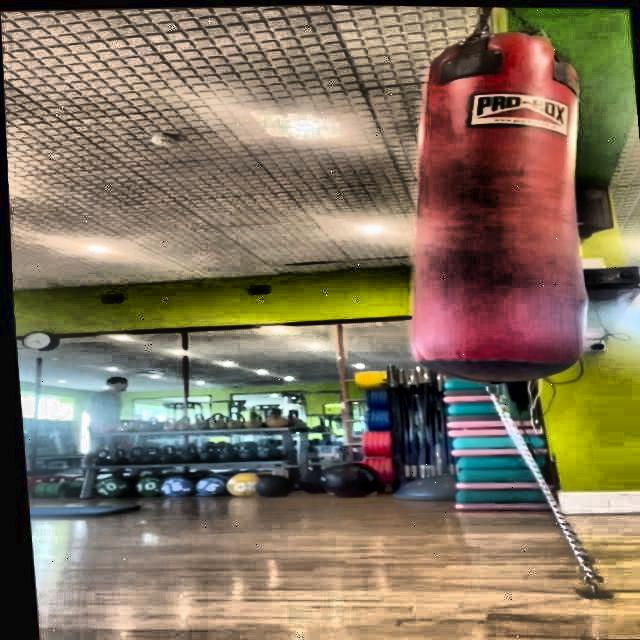boxing-bag: (391, 4, 593, 390)
